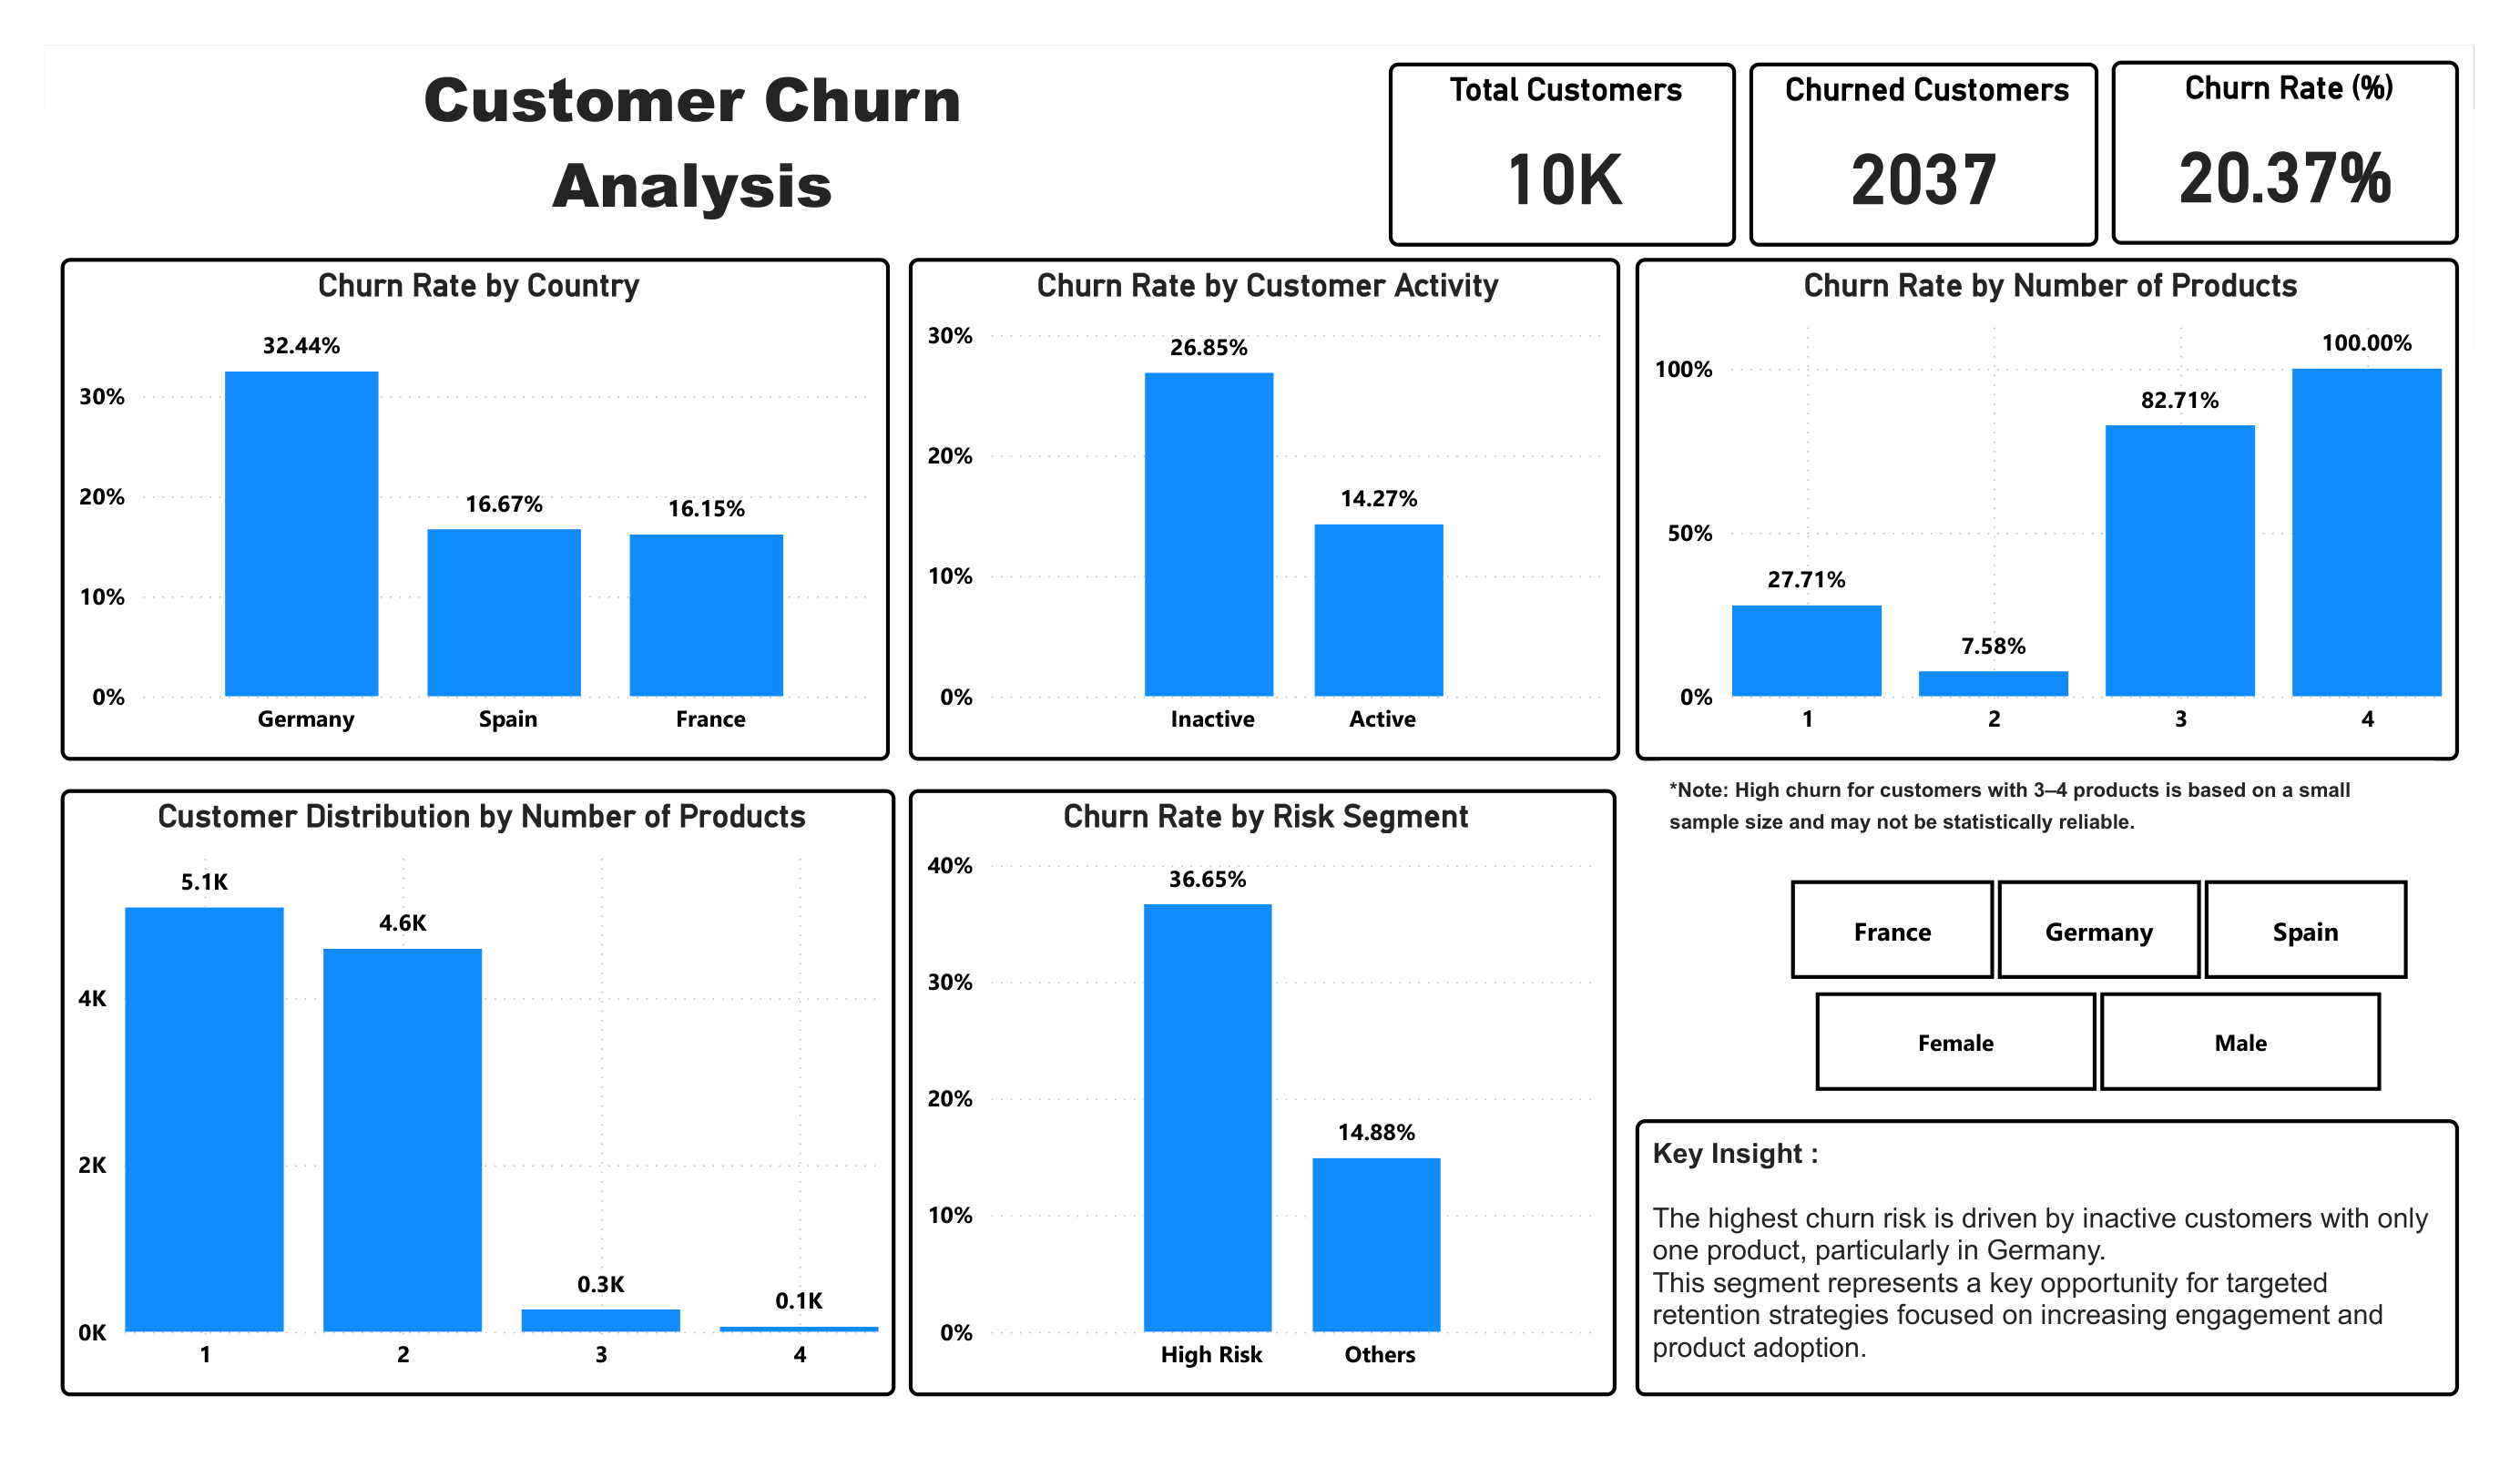

The dashboard page shown, as its layout file describes it:
{"tool":"powerbi","page":{"name":"Page 1","canvas":[1280,720],"ordinal":0},"visuals":[{"type":"card","title":"Total Customers","fields":{"Values":["Customer Churn (Bank  Telco).Total Customers"]},"box":[708.5,9.2,182.3,96.9],"z":0},{"type":"card","title":"Churned  Customers","fields":{"Values":["Customer Churn (Bank  Telco).Churned Customers"]},"box":[898.5,9.2,183.1,96.9],"z":1000},{"type":"card","title":"Churn Rate (%)","fields":{"Values":["Customer Churn (Bank  Telco).Churn Rate"]},"box":[1089.2,7.7,183.1,96.9],"z":2000},{"type":"clusteredColumnChart","title":"Churn Rate by Country","fields":{"Category":["Customer Churn (Bank  Telco).country"],"Y":["Customer Churn (Bank  Telco).Churn Rate"]},"box":[7.7,112.3,437.7,264.6],"z":3000},{"type":"clusteredColumnChart","title":"Churn Rate by Customer Activity","fields":{"Category":["Customer Churn (Bank  Telco).activity_status"],"Y":["Customer Churn (Bank  Telco).Churn Rate"]},"box":[454.6,112.3,375.4,264.6],"z":4000},{"type":"clusteredColumnChart","title":"Churn Rate by Number of Products","fields":{"Y":["Customer Churn (Bank  Telco).Churn Rate"],"Category":["Customer Churn (Bank  Telco).products_number"]},"box":[837.7,112.3,434.6,264.6],"z":5000},{"type":"textbox","box":[128.5,0,425.4,106.2],"z":6000},{"type":"slicer","fields":{"Values":["Customer Churn (Bank  Telco).gender"]},"box":[906.9,492.3,348.5,66.2],"z":7000},{"type":"slicer","fields":{"Values":["Customer Churn (Bank  Telco).country"]},"box":[893.8,433.1,375.4,66.2],"z":8000},{"type":"textbox","box":[837.7,566.2,434.6,146.2],"z":9000},{"type":"clusteredColumnChart","title":"Churn Rate by Risk Segment","fields":{"Y":["Customer Churn (Bank  Telco).Churn Rate"],"Category":["Customer Churn (Bank  Telco).risk_segment"]},"box":[455.4,392.3,373.1,319.2],"z":10000},{"type":"clusteredColumnChart","title":"Customer Distribution by Number of Products","fields":{"Y":["Count(Customer Churn (Bank  Telco).customer_id)"],"Category":["Customer Churn (Bank  Telco).products_number"]},"box":[7.7,392.3,440,320],"z":11000},{"type":"textbox","box":[850.8,376.9,408.5,48.5],"z":12000}]}

Visuals, with their boxes in screenshot pixels (x1, y1, x2, y2):
"Total Customers" card: <region>1380, 70, 1720, 251</region>
"Churned  Customers" card: <region>1735, 70, 2078, 251</region>
"Churn Rate (%)" card: <region>2092, 66, 2435, 249</region>
"Churn Rate by Country" clusteredColumnChart: <region>66, 263, 887, 759</region>
"Churn Rate by Customer Activity" clusteredColumnChart: <region>903, 263, 1607, 759</region>
"Churn Rate by Number of Products" clusteredColumnChart: <region>1621, 263, 2435, 759</region>
textbox: <region>293, 53, 1090, 251</region>
slicer - Customer Churn (Bank  Telco).gender: <region>1750, 974, 2403, 1098</region>
slicer - Customer Churn (Bank  Telco).country: <region>1727, 863, 2429, 987</region>
textbox: <region>1621, 1113, 2435, 1387</region>
"Churn Rate by Risk Segment" clusteredColumnChart: <region>905, 787, 1604, 1385</region>
"Customer Distribution by Number of Products" clusteredColumnChart: <region>66, 787, 891, 1386</region>
textbox: <region>1646, 759, 2411, 849</region>
